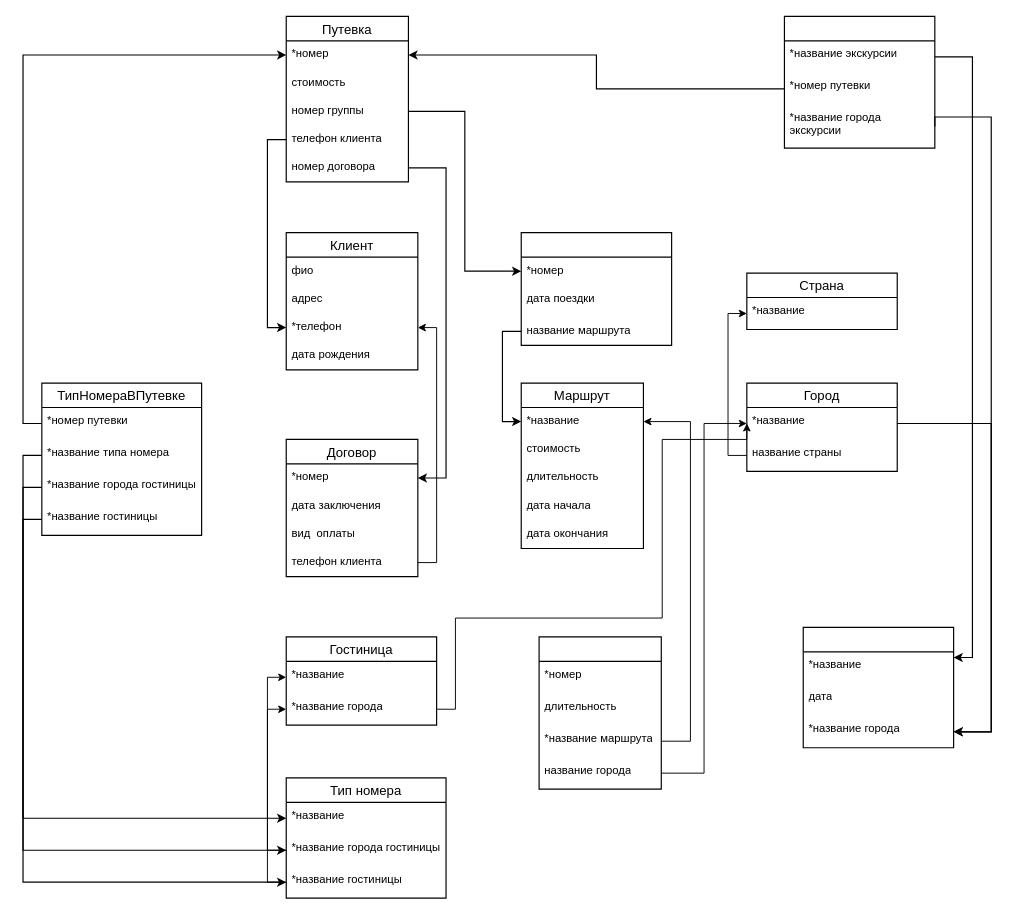
This 1016x917 diagram has some shape labels left out. The shapes that lost their labels are listed below. From the top down, each one's box as (x1, y1, x2, y2) in pixels, then its label:
(783, 15, 935, 148): ЭкскурсияВПутевке
(520, 232, 672, 346): Группа
(802, 626, 954, 748): Экскурсия
(538, 636, 661, 789): Пункт назначения
